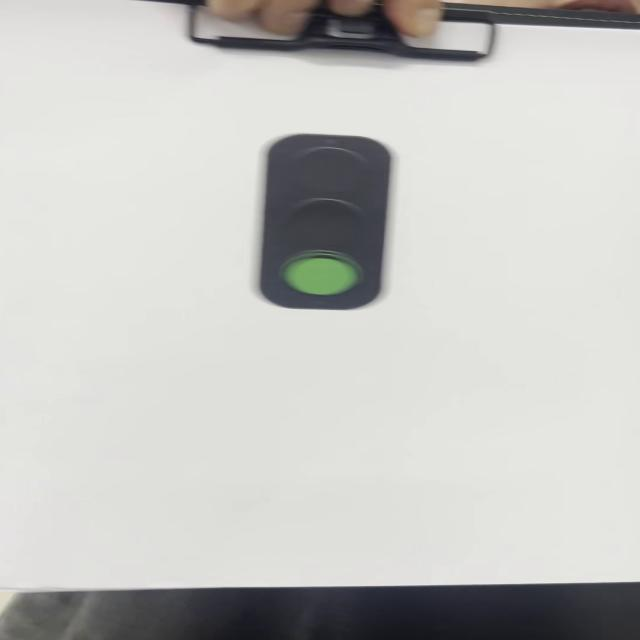green: (262, 134, 395, 318)
